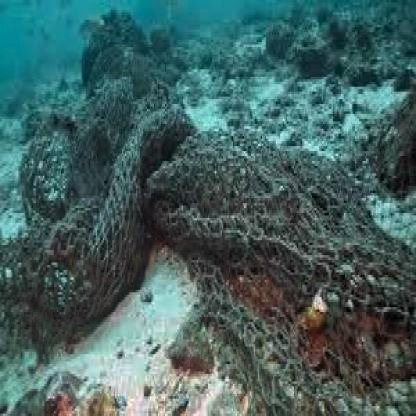net: (32, 94, 416, 409)
